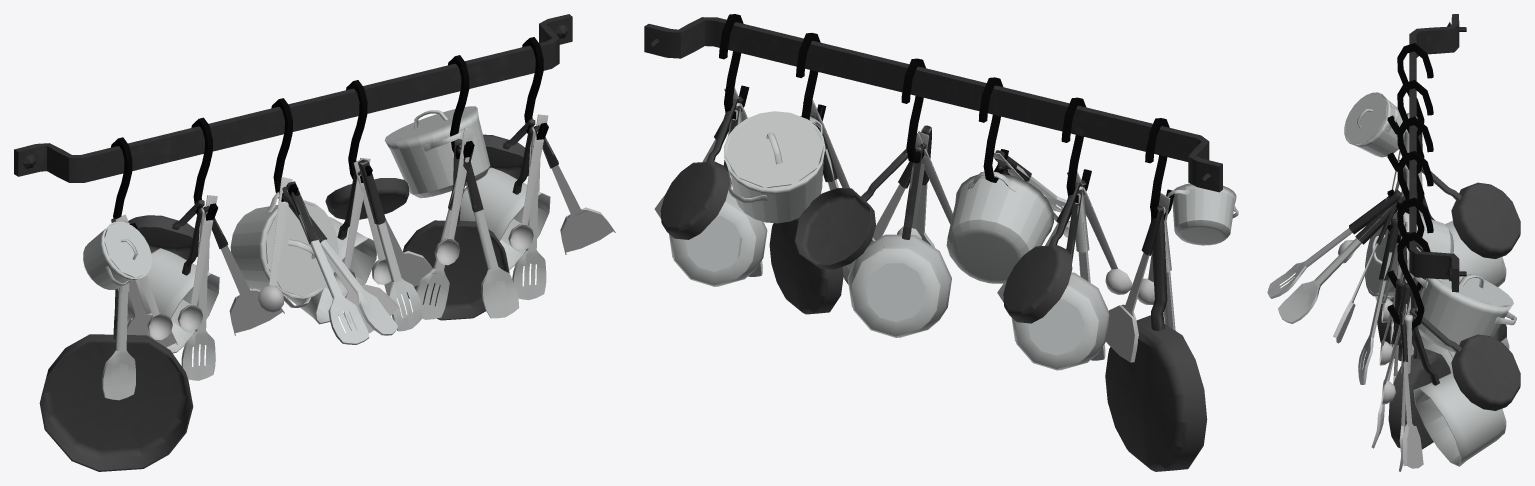
File: Over_Head_Hazard.fbx
The picture shows the model from 3 angles, left to right: view 1: azimuth 30°, elevation 25°; view 2: azimuth 150°, elevation 25°; view 3: azimuth 270°, elevation 25°; orthographic projection. The views are drawn at different scales.
Parts seen in each view (by area): view 1: Over_Head_hazard; view 2: Over_Head_hazard; view 3: Over_Head_hazard.
Boxes of the visible parts, box(x1,y1,x2,y2) form: Over_Head_hazard: box(14, 14, 615, 471); Over_Head_hazard: box(644, 14, 1238, 471); Over_Head_hazard: box(1267, 14, 1520, 471).
Bounding box in the file's own units: 47.78 × 26.48 × 19.44.
